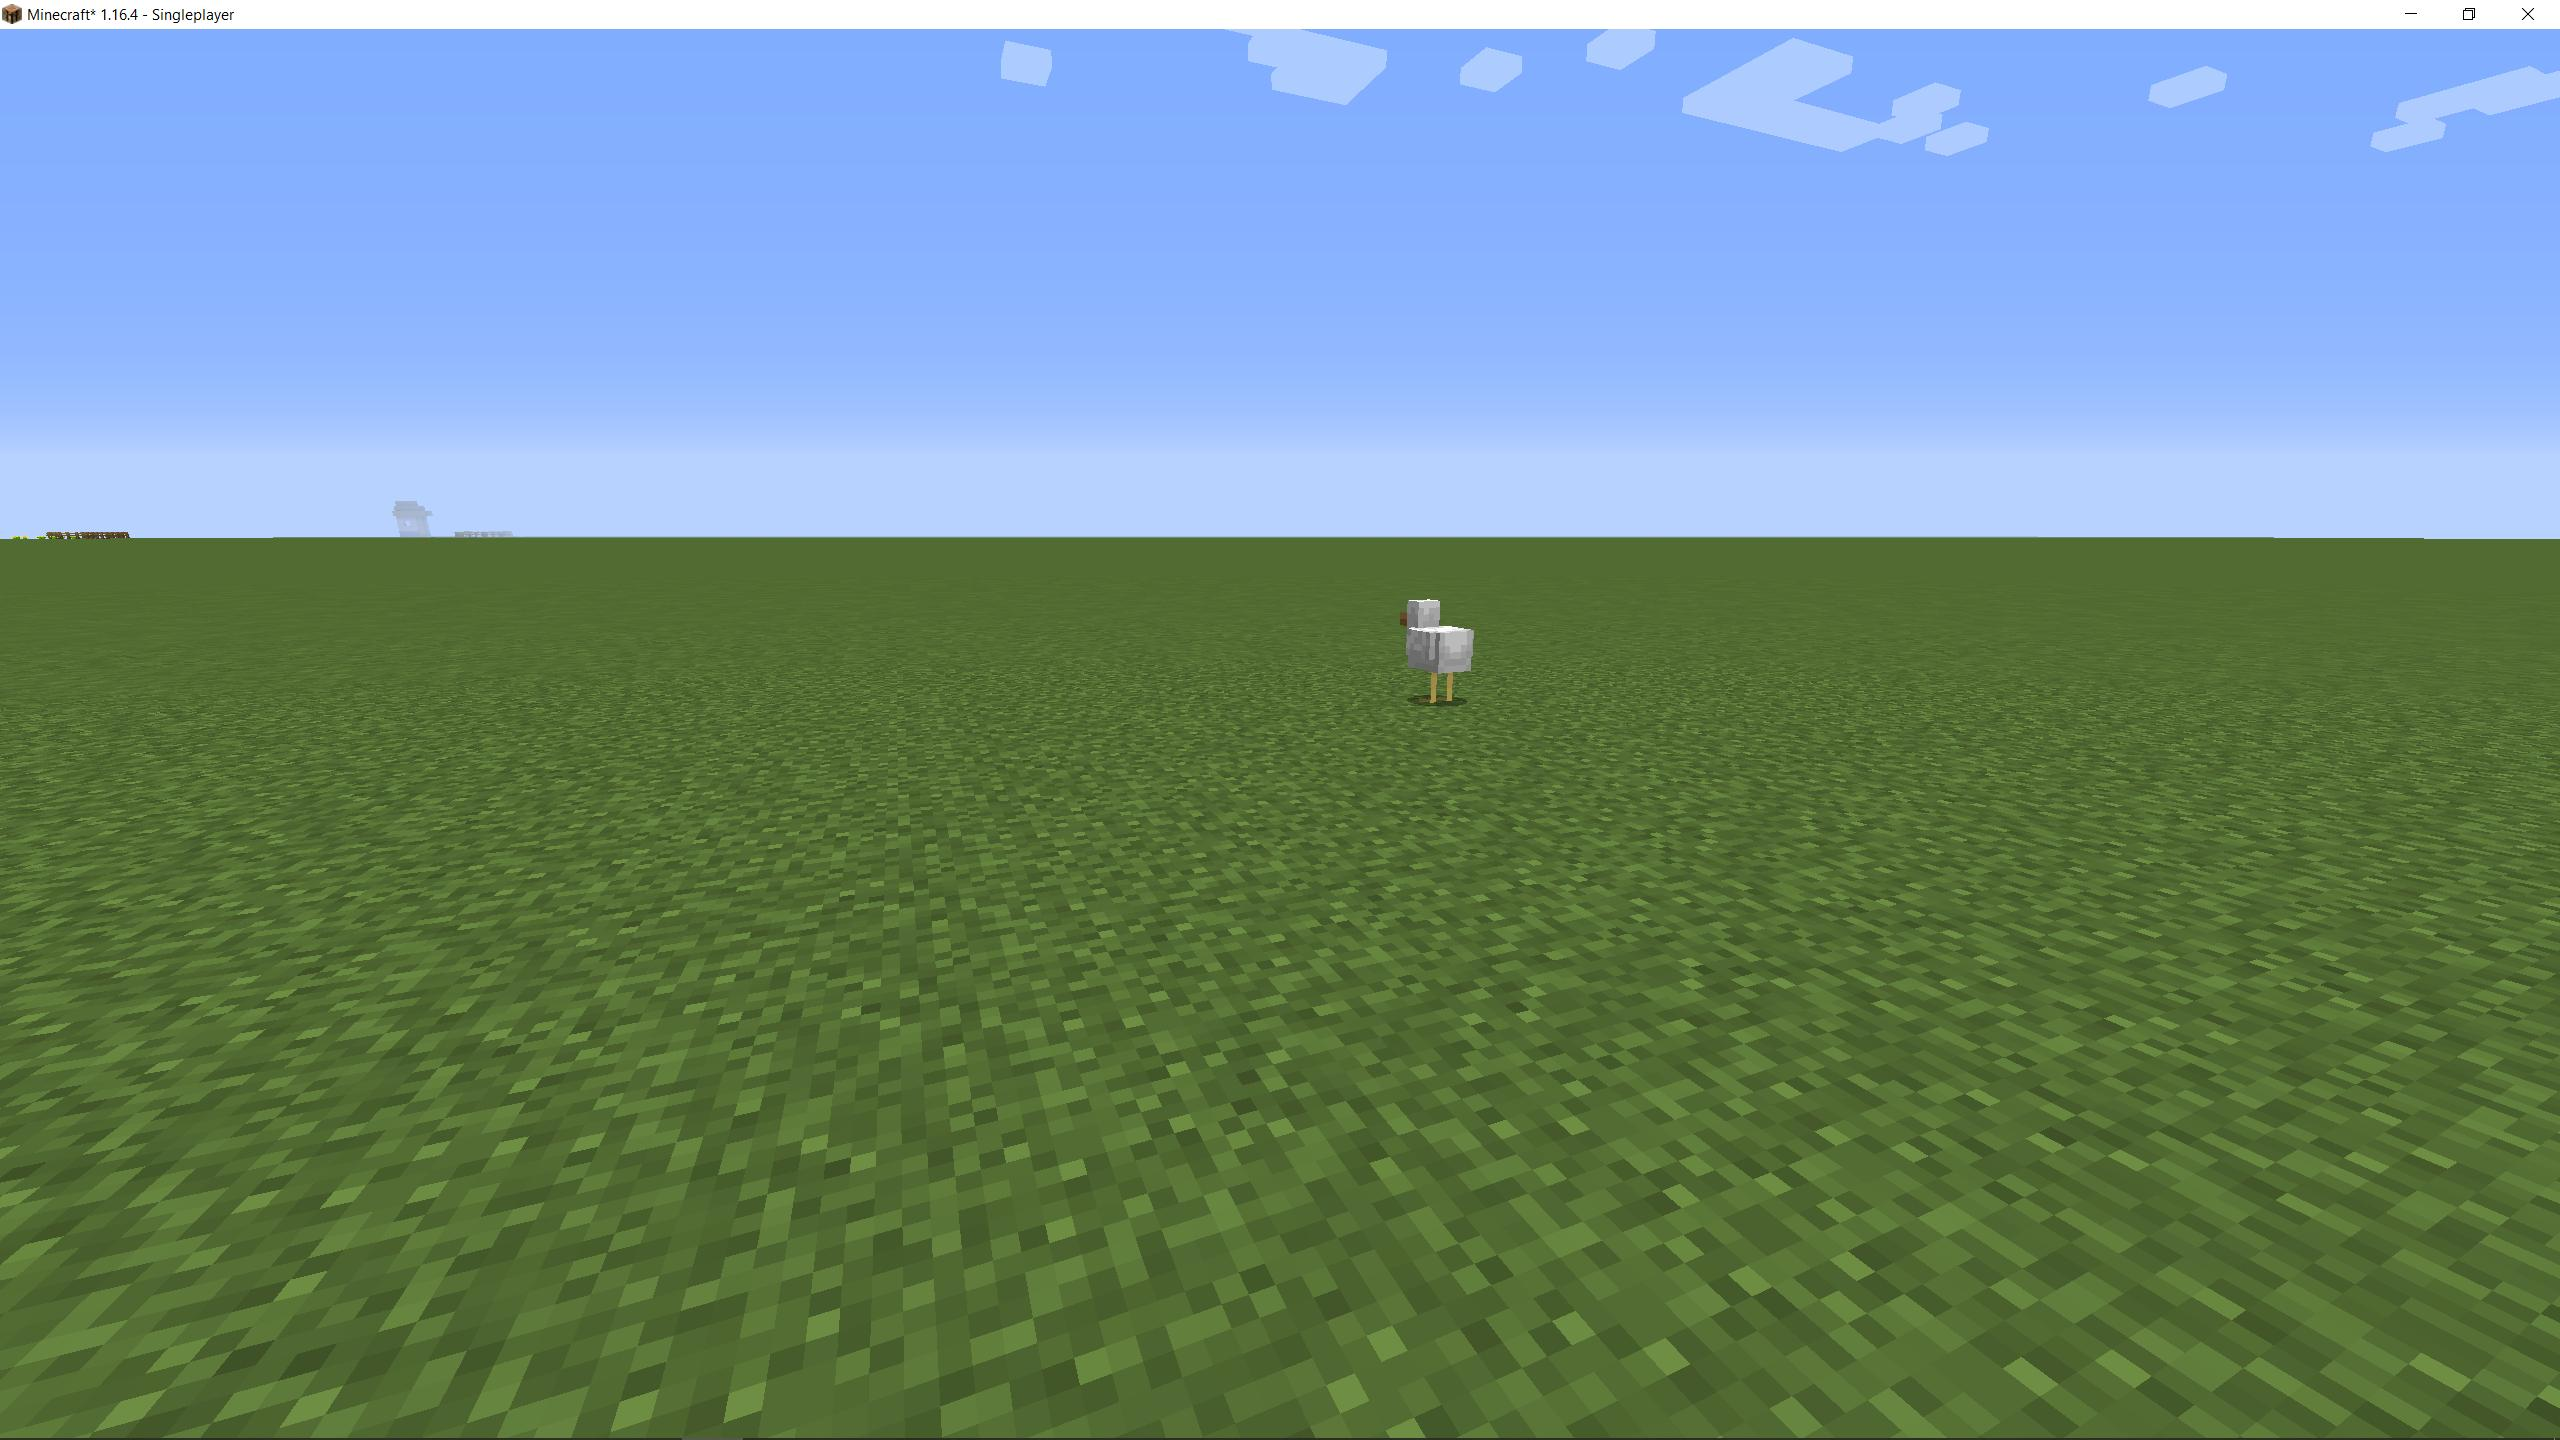chicken: (1394, 589, 1482, 717)
